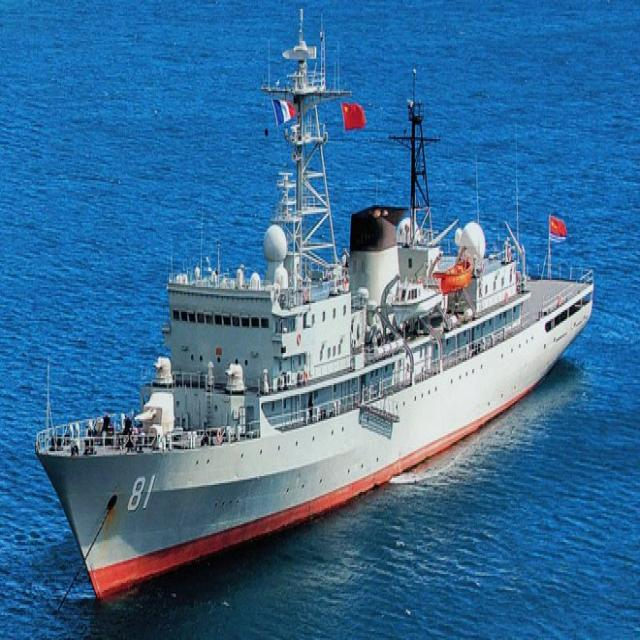navalvessels: (36, 33, 607, 597)
